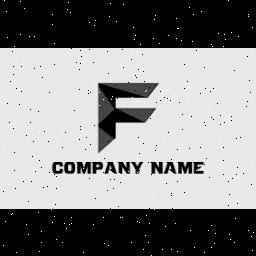a: (164, 158, 176, 174), (106, 160, 116, 174)
c: (50, 158, 64, 174)
e: (192, 156, 206, 174)
f: (96, 74, 160, 150)
m: (176, 158, 192, 176), (76, 158, 92, 174)
n: (151, 156, 163, 176), (118, 158, 130, 174)
o: (66, 160, 76, 174)
p: (94, 160, 104, 174)
y: (130, 159, 144, 175)
